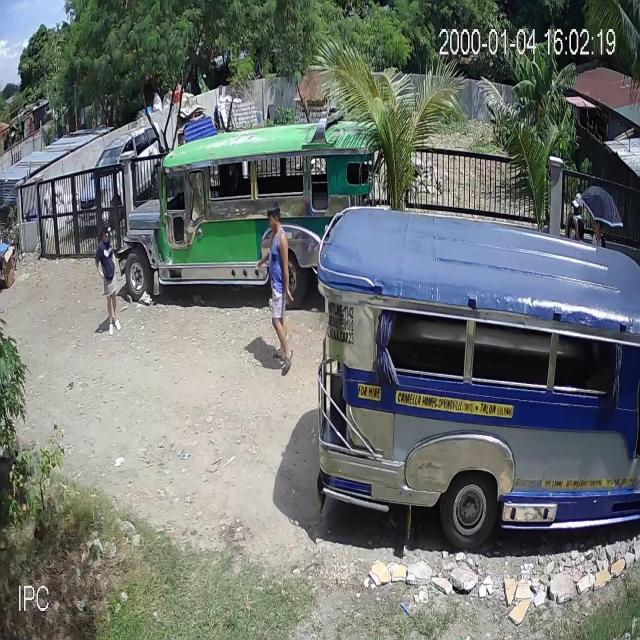standing: (96, 221, 123, 339), (566, 192, 587, 246), (590, 218, 608, 261)
walking: (260, 202, 296, 374)
